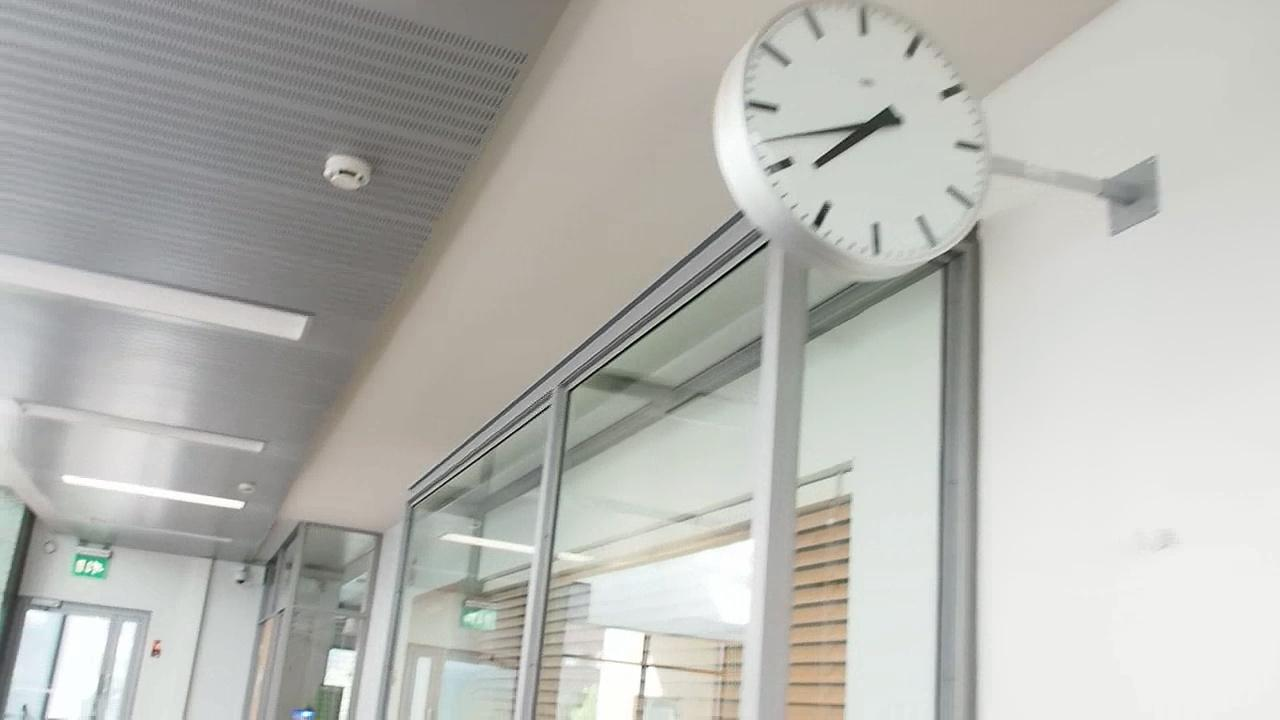clock: (712, 2, 1004, 274)
